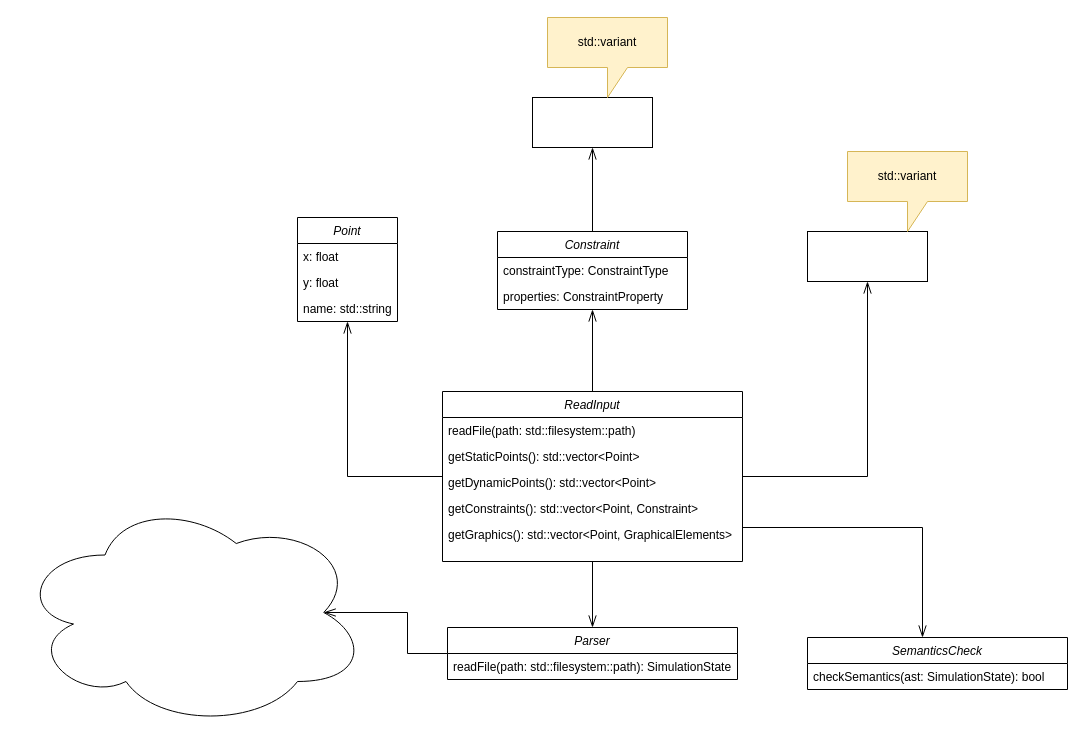
Image size: 1085x745. Some labels were removed from this diagram. Here are the shapes that lost their labels. From the top down, the centre of each, then its label:
[592,122]: «typedef» ConstraintProperty
[867,256]: «typedef» GraphicalElements
[192,612]: Lexy submodule components
